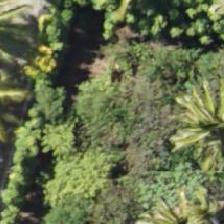coconut_tree: (171, 77, 223, 167), (138, 176, 223, 223)
